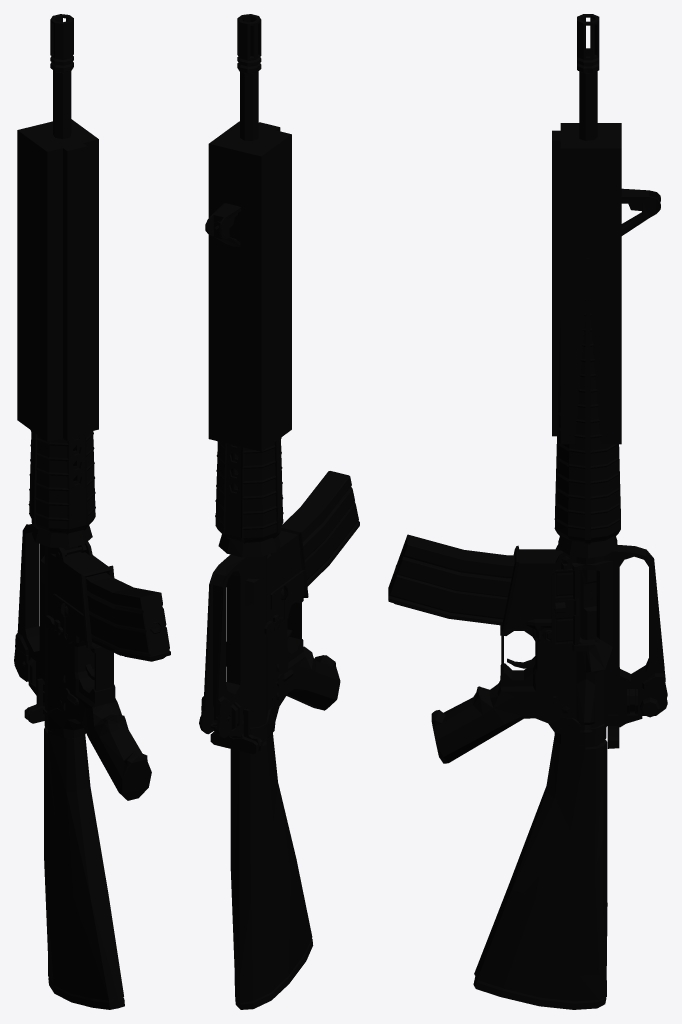
The model's file is M16A2__Handguard_AR_Quad.fbx.
3 views of the same model, side by side, from view 1: azimuth 30°, elevation 25°; view 2: azimuth 150°, elevation 25°; view 3: azimuth 270°, elevation 25° (orthographic).
Parts seen in each view (by area): view 1: asset_M16A2.001; view 2: asset_M16A2.001; view 3: asset_M16A2.001.
Part boxes in pixels (x1,y1,x2,y2): asset_M16A2.001: (14, 14, 170, 1009); asset_M16A2.001: (199, 14, 359, 1009); asset_M16A2.001: (388, 14, 667, 1009).
Bounding box in the file's own units: 0.0384 × 0.6 × 0.1542.
